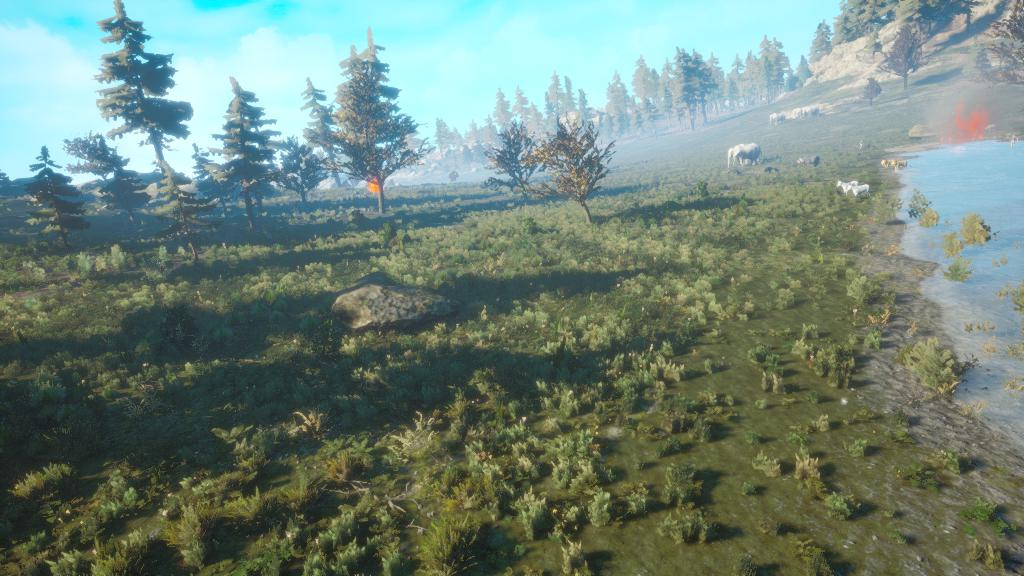Fire: (948, 106, 989, 145), (365, 178, 385, 196)
elephant: (725, 141, 762, 169), (766, 110, 789, 125), (801, 105, 823, 120), (791, 106, 809, 118)
hippopotamus: (794, 153, 823, 168)
human: (1008, 131, 1019, 151), (858, 139, 865, 151)
lion: (889, 158, 912, 174), (879, 156, 898, 170)
smoke: (926, 79, 1008, 145)
zebra: (834, 178, 860, 195), (847, 184, 872, 198)
